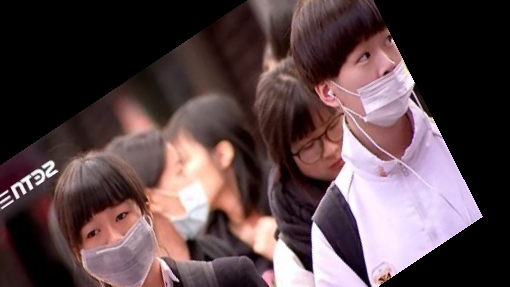mask_weared_incorrect: (270, 2, 423, 145)
